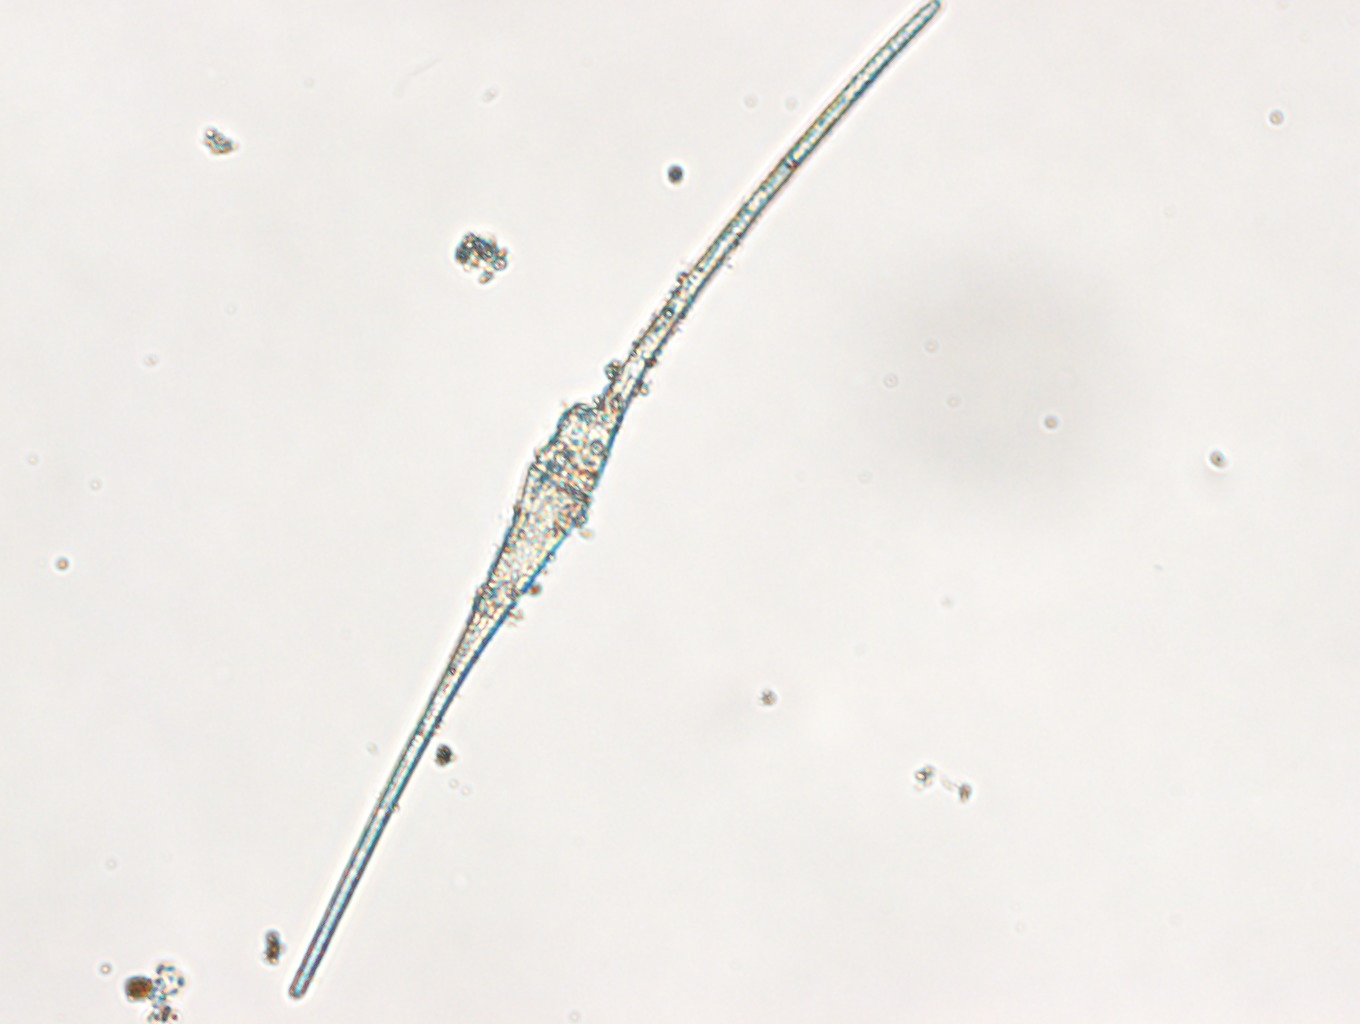ceratium fusus: (287, 1, 947, 1005)
